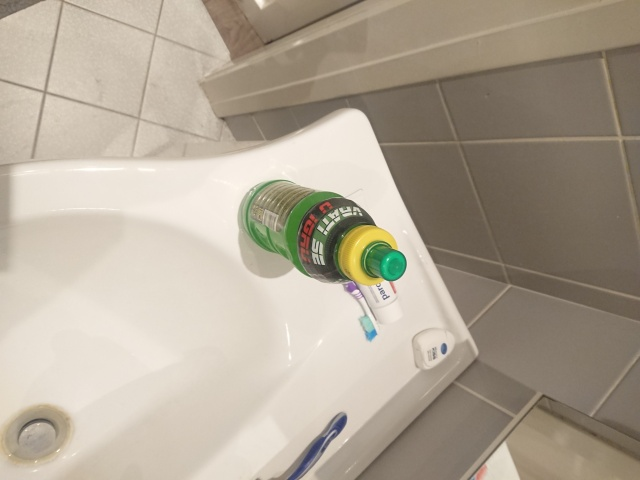Vindi Iso Sport Lemon-Grapefruit 500mL: (238, 177, 409, 288)
